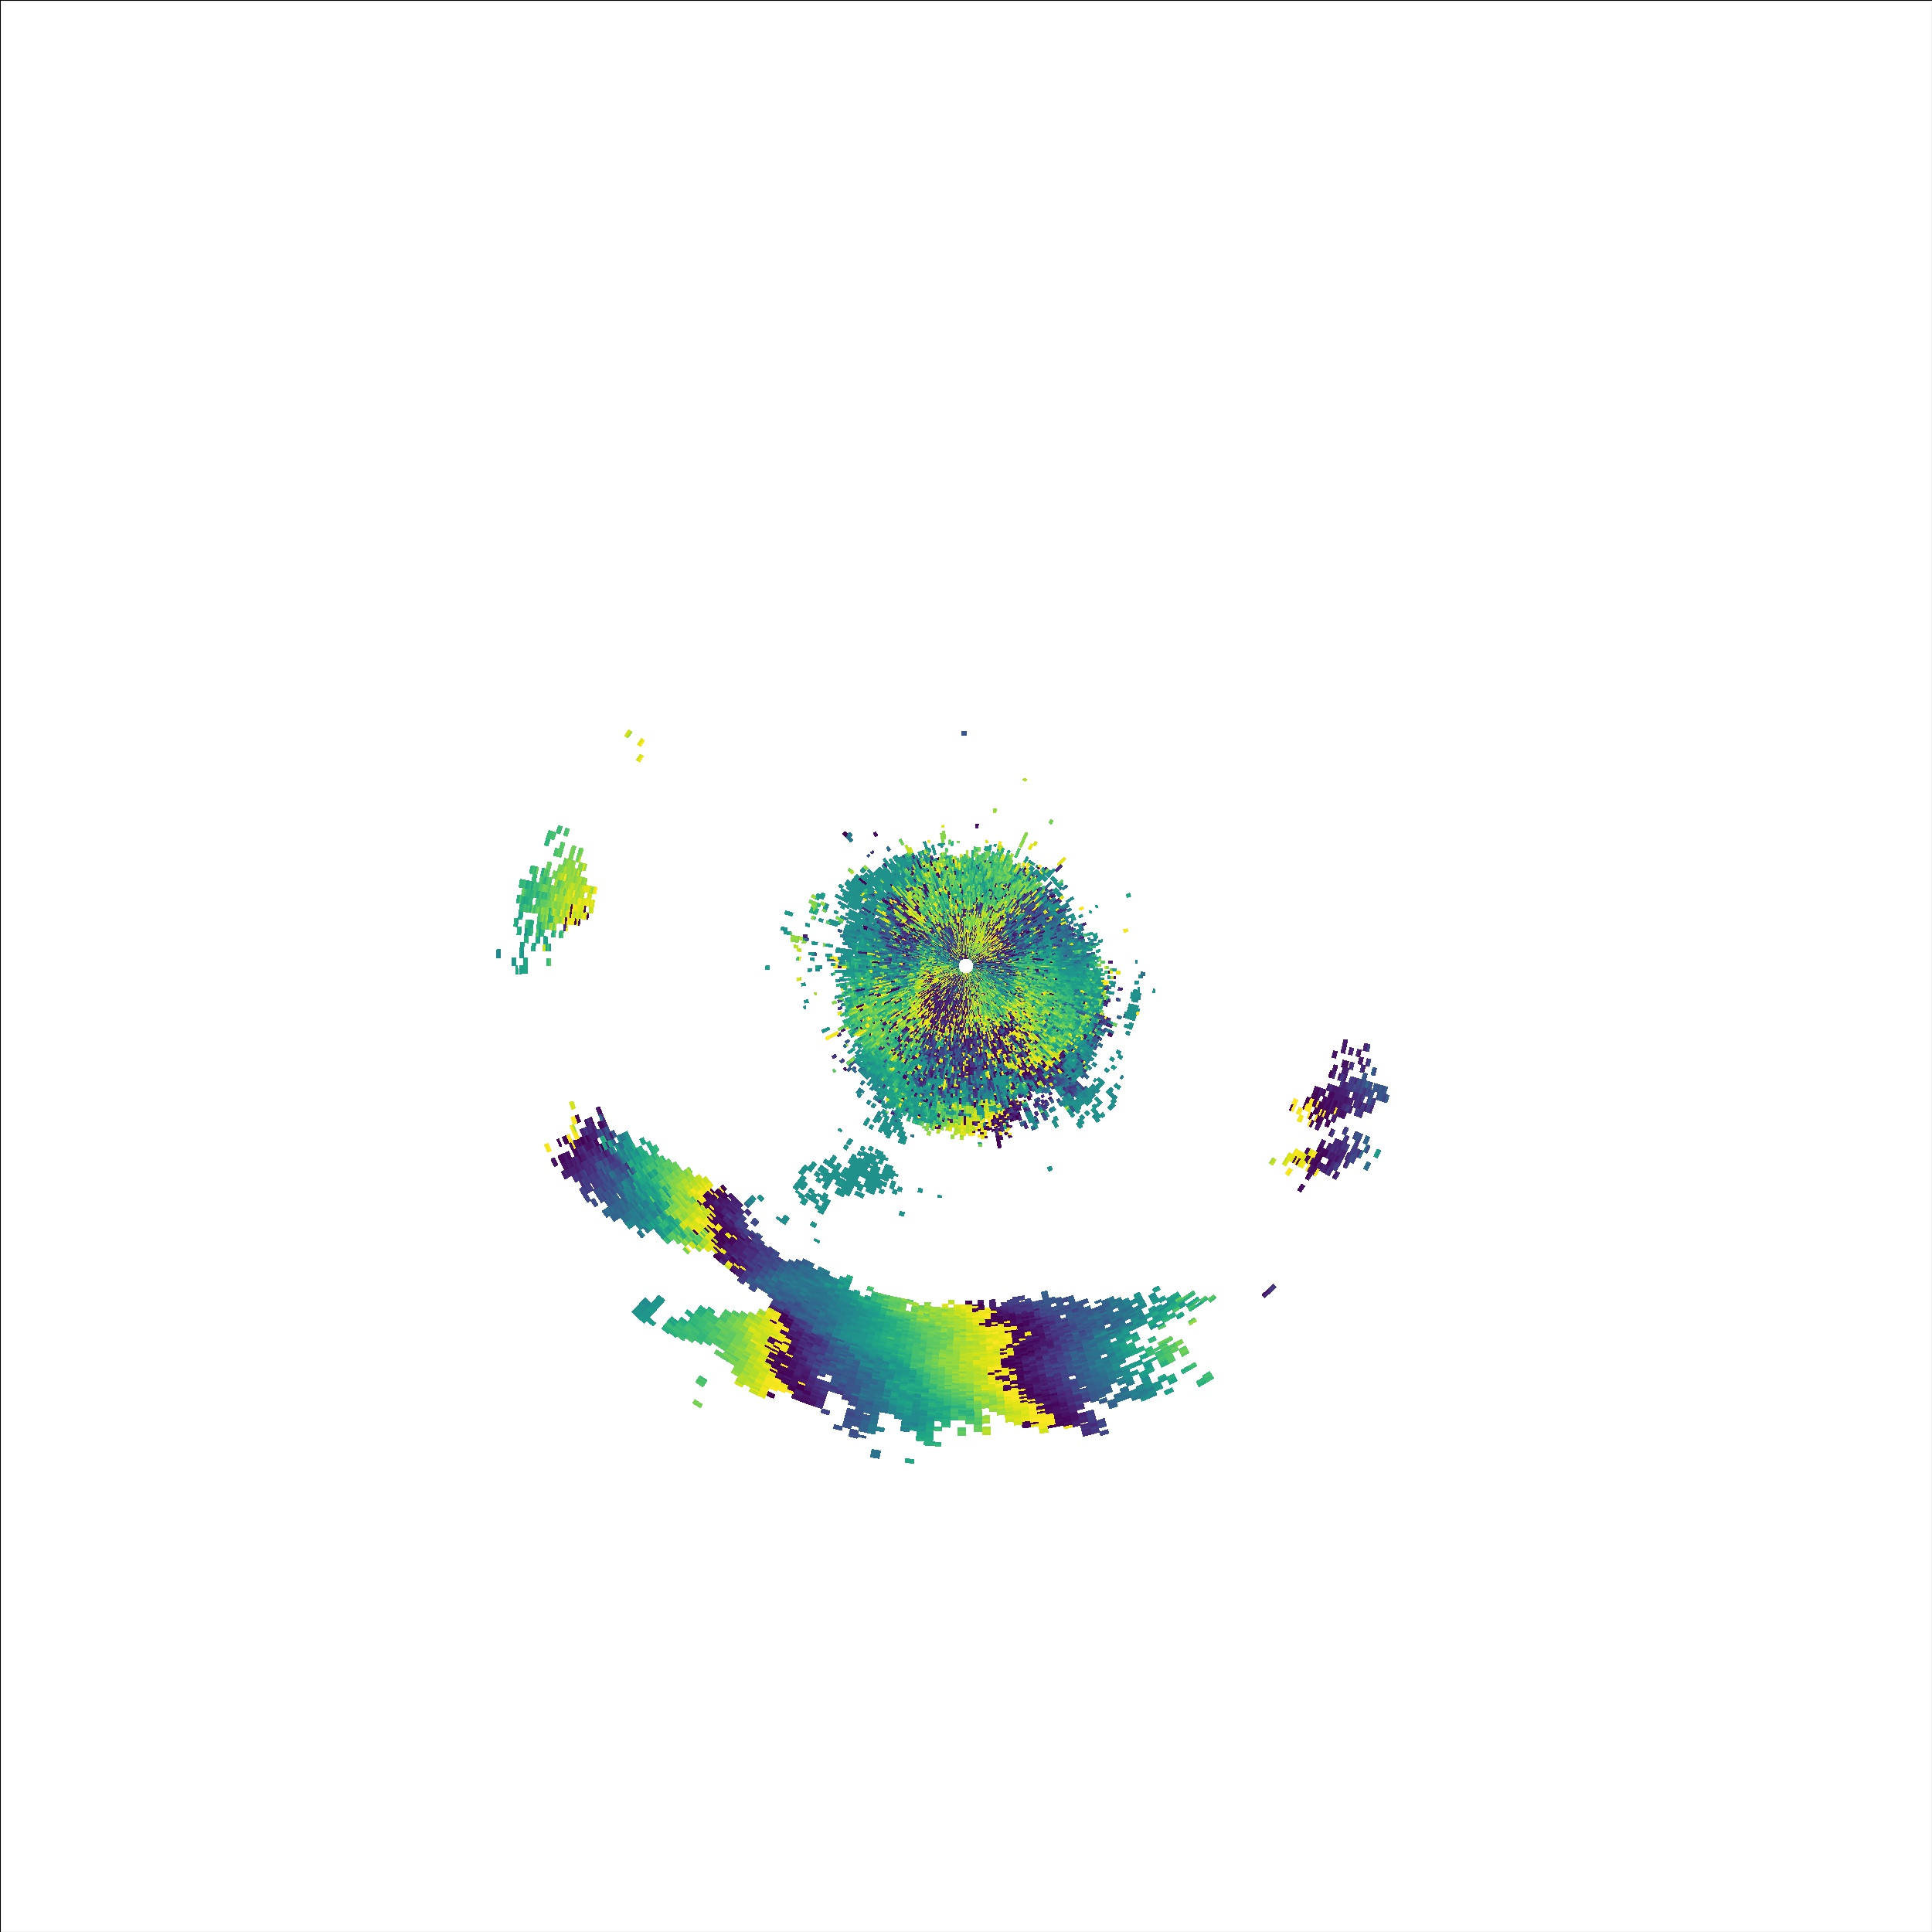fall: (421, 824, 653, 984)
